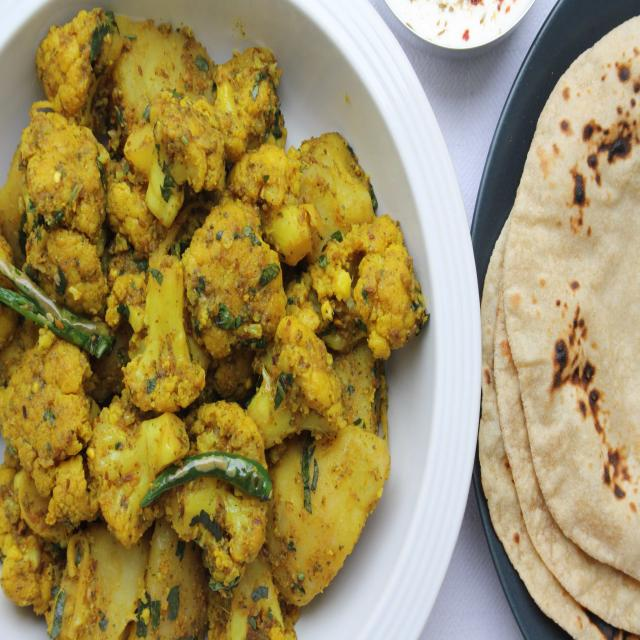Aloo Gobi: (9, 15, 289, 408)
